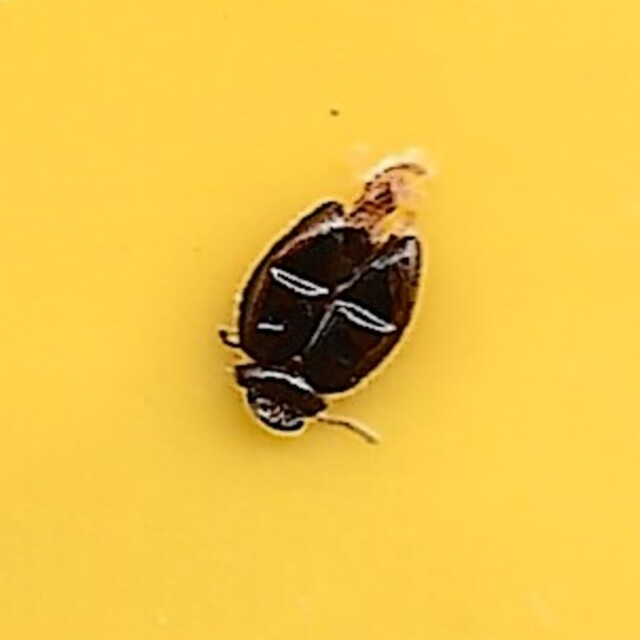Coleoptera: (212, 192, 428, 448)
